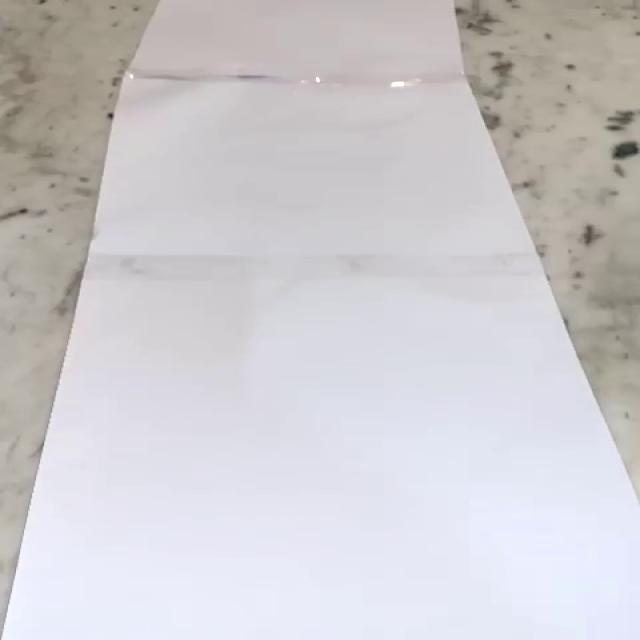road: (3, 0, 637, 640)
